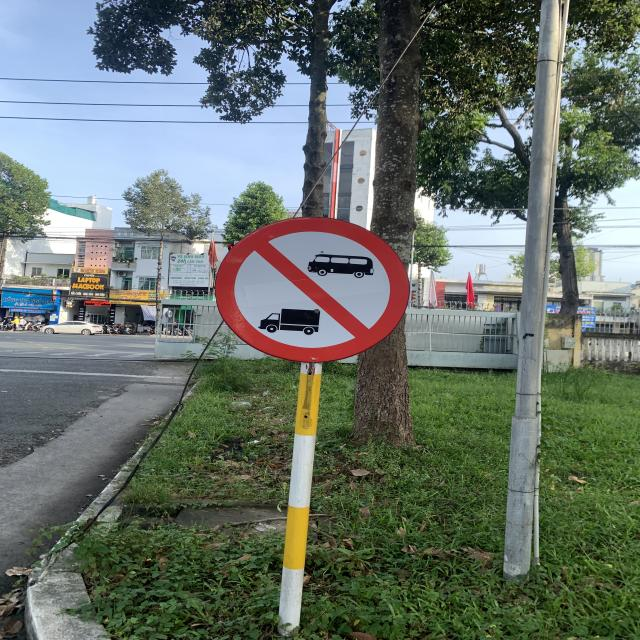Cam_XeTai_XeKhach: (221, 218, 407, 362)
